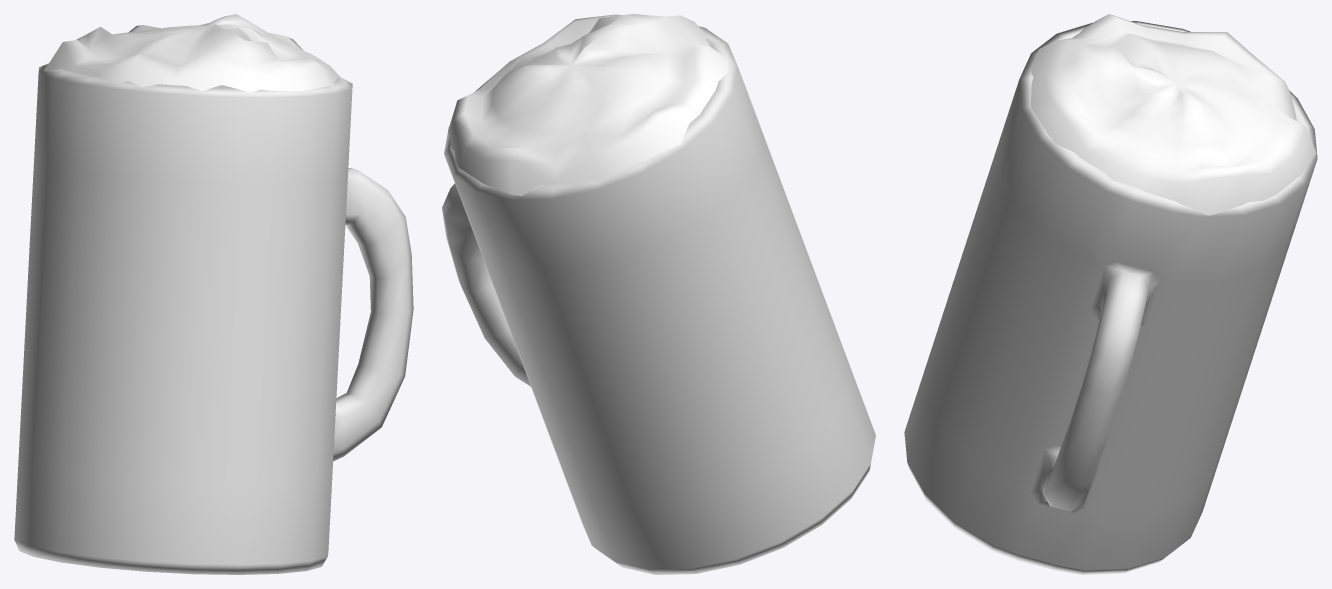
File: Komono_B_jokki.fbx
3 views of the same model, side by side, from view 1: azimuth 30°, elevation 25°; view 2: azimuth 150°, elevation 25°; view 3: azimuth 270°, elevation 25° (orthographic). The views are drawn at different scales.
Parts seen in each view (by area): view 1: jokki_m; view 2: jokki_m; view 3: jokki_m.
Boxes of the visible parts, box(x1,y1,x2,y2) form: jokki_m: box(14, 14, 413, 574); jokki_m: box(442, 14, 875, 574); jokki_m: box(904, 14, 1317, 574).
Size of the model in its own units: 41.75 by 52.89 by 38.71.
